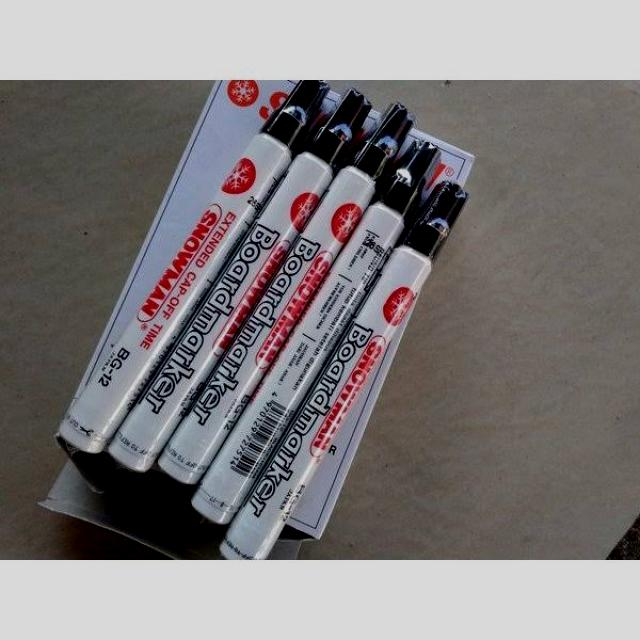zat_kimia: (174, 87, 417, 524)
